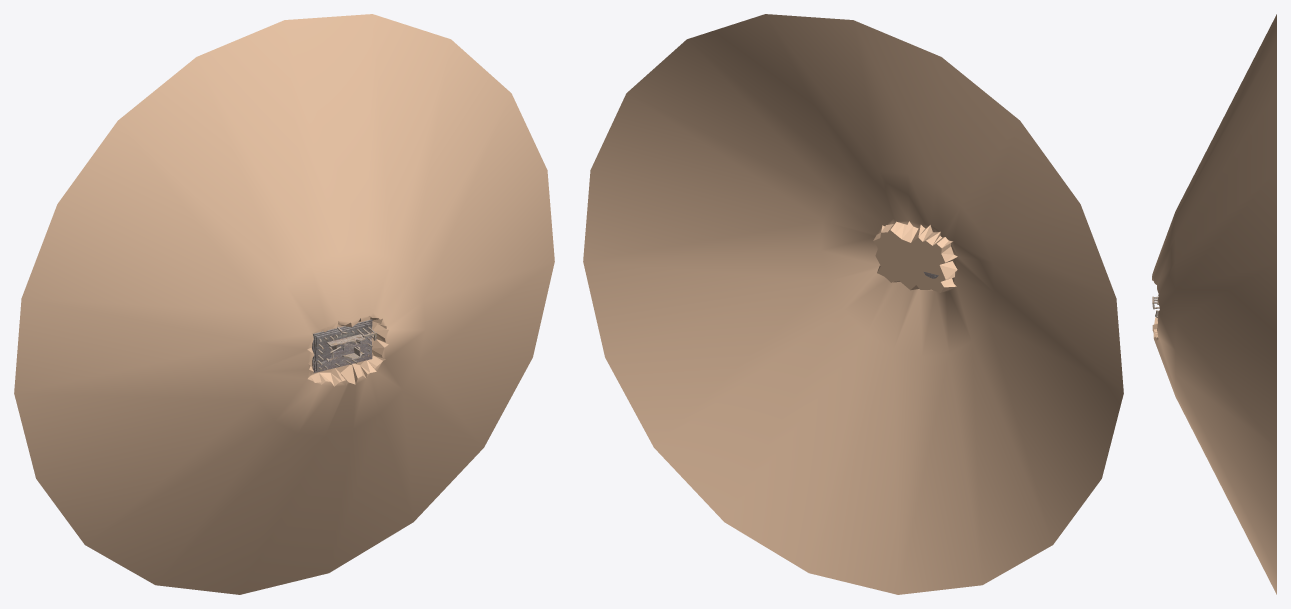
3 views of the same model, side by side, from view 1: azimuth 30°, elevation 25°; view 2: azimuth 150°, elevation 25°; view 3: azimuth 270°, elevation 25° (orthographic). The views are drawn at different scales.
Parts seen in each view (by area): view 1: mountain, stairs; view 2: mountain; view 3: mountain.
Part boxes in pixels (x1,y1,x2,y2): mountain: (14,14,554,594); stairs: (312,319,372,373); mountain: (583,14,1123,594); mountain: (1152,14,1276,594).
Size of the model in its own units: 98.99 by 98.66 by 21.25.
4 materials, 3 textured.
